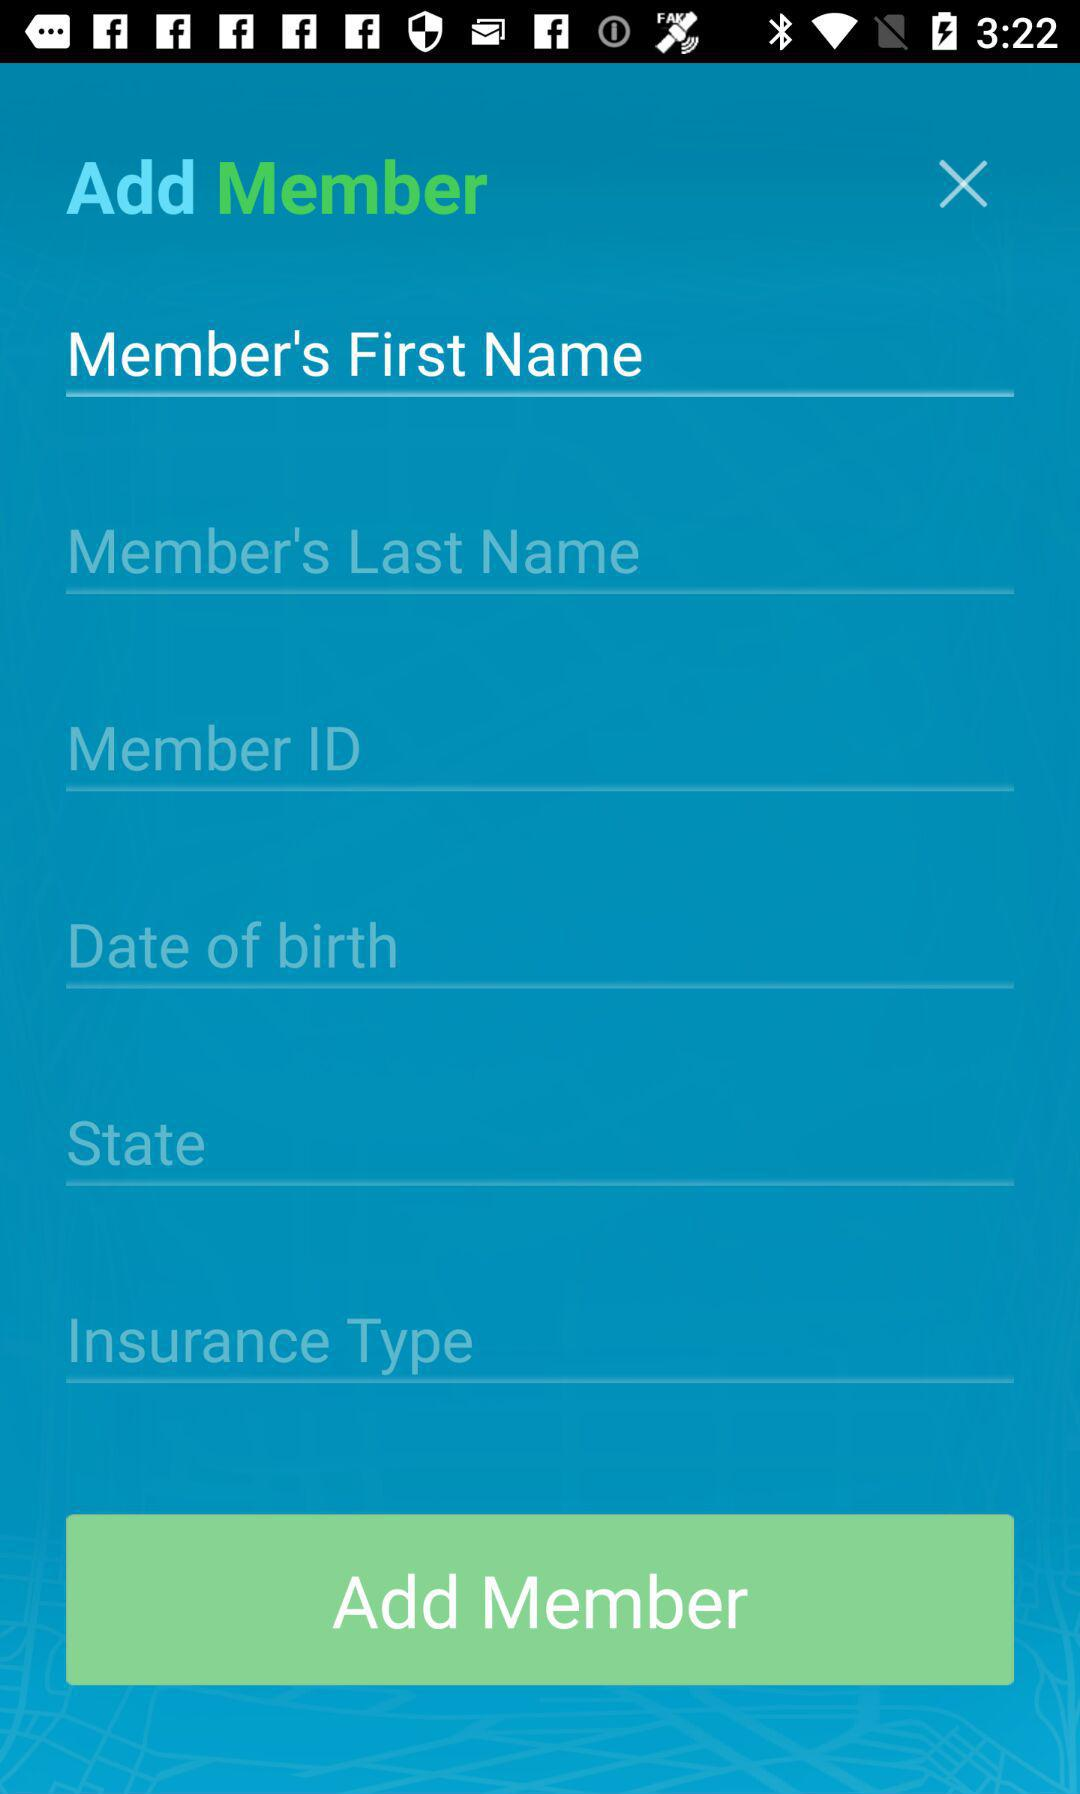EditText: (65, 919, 1015, 991), (65, 723, 1015, 794), (65, 327, 1015, 399), (64, 1117, 1016, 1188), (64, 525, 1016, 596), (65, 1316, 1013, 1384)
Icon: (937, 159, 990, 210)
Text: (70, 329, 644, 378), (70, 529, 641, 575), (64, 158, 489, 217), (70, 1316, 473, 1376), (70, 920, 397, 970), (70, 724, 360, 774), (68, 1119, 206, 1169)
TextButton: (67, 1513, 1016, 1686)
UpperTaskBar: (1, 1, 1080, 64)
